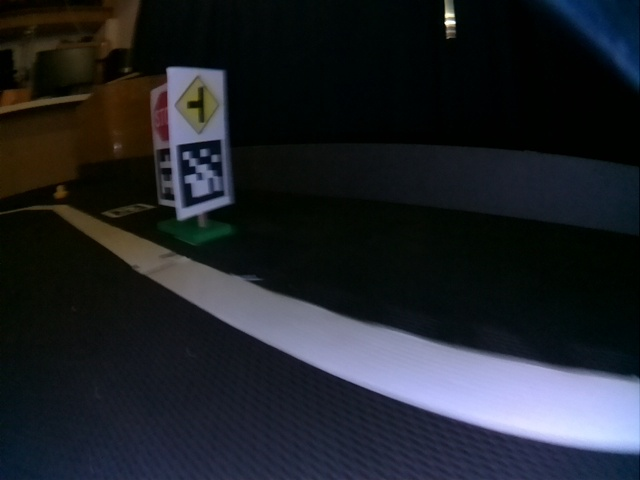Duckie: (52, 185, 66, 197)
Intersection sign: (176, 76, 221, 135)
QR code: (178, 141, 224, 207), (101, 204, 156, 217)
Stop sign: (151, 90, 168, 142)
